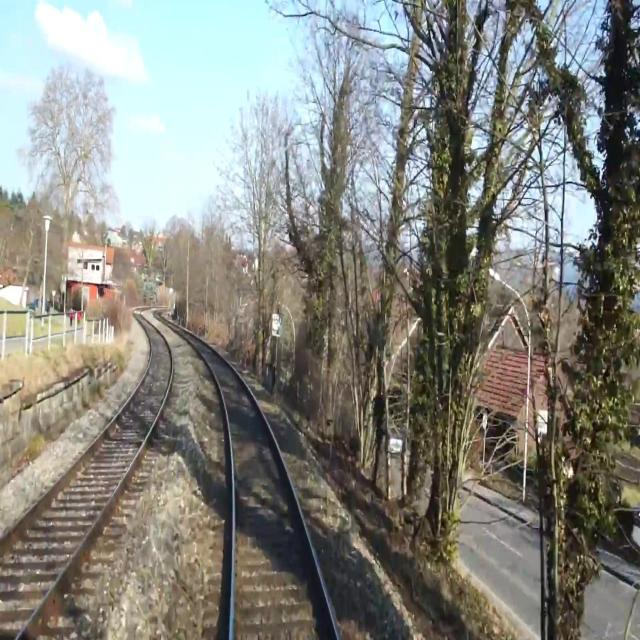rail-track: (0, 310, 171, 633), (176, 328, 334, 639)
